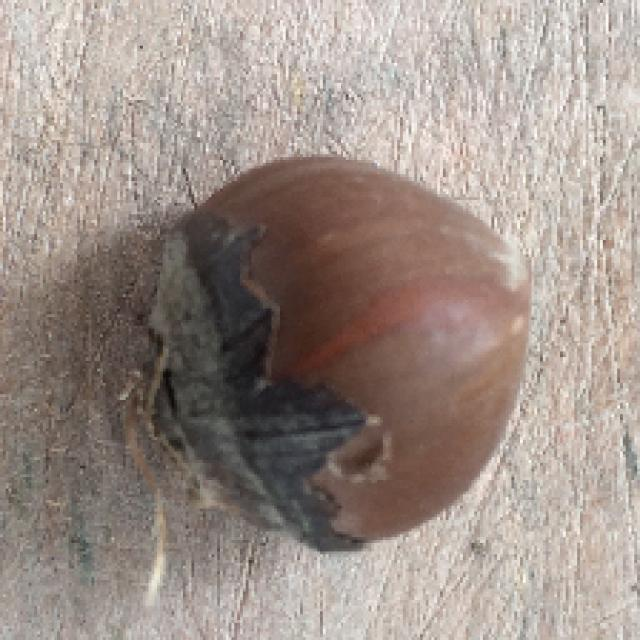DamagedHazelnut: (151, 154, 532, 549)
